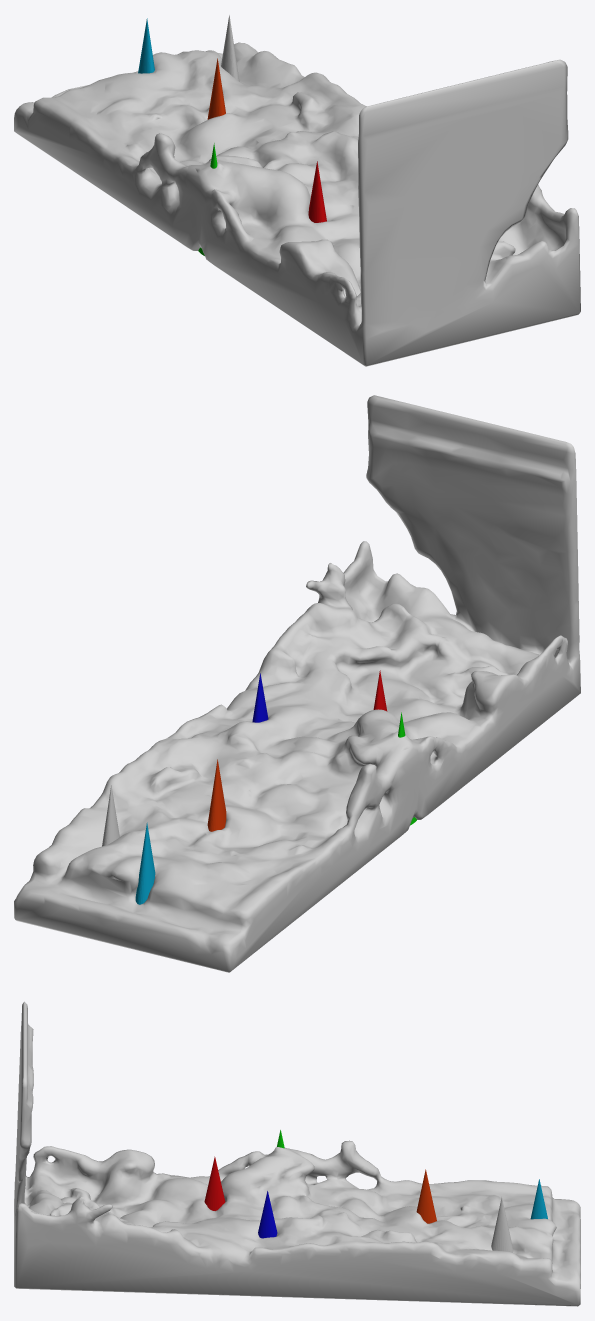
The picture shows the model from 3 angles, top to bottom: view 1: azimuth 30°, elevation 25°; view 2: azimuth 150°, elevation 25°; view 3: azimuth 270°, elevation 25°; orthographic projection. The views are drawn at different scales.
Parts seen in each view (by area): view 1: Liquid_Domain, 円錐.001, 円錐, 円錐.004, 円錐.005; view 2: Liquid_Domain, 円錐.005, 円錐.004; view 3: Liquid_Domain, 円錐, 円錐.001, 円錐.004, 円錐.002.
Boxes of the visible parts, x1,y1,x2,y2 form: Liquid_Domain: (14,42,580,366); 円錐.001: (308,161,326,222); 円錐: (221,15,239,81); 円錐.004: (207,58,225,119); 円錐.005: (138,18,154,73); Liquid_Domain: (14,395,580,972); 円錐.005: (135,822,155,904); 円錐.004: (207,759,226,831); Liquid_Domain: (14,1001,580,1306); 円錐: (491,1197,513,1252); 円錐.001: (204,1156,225,1210); 円錐.004: (416,1169,436,1223); 円錐.002: (258,1191,277,1238).
Size of the model in its own units: 129 by 158 by 361.
